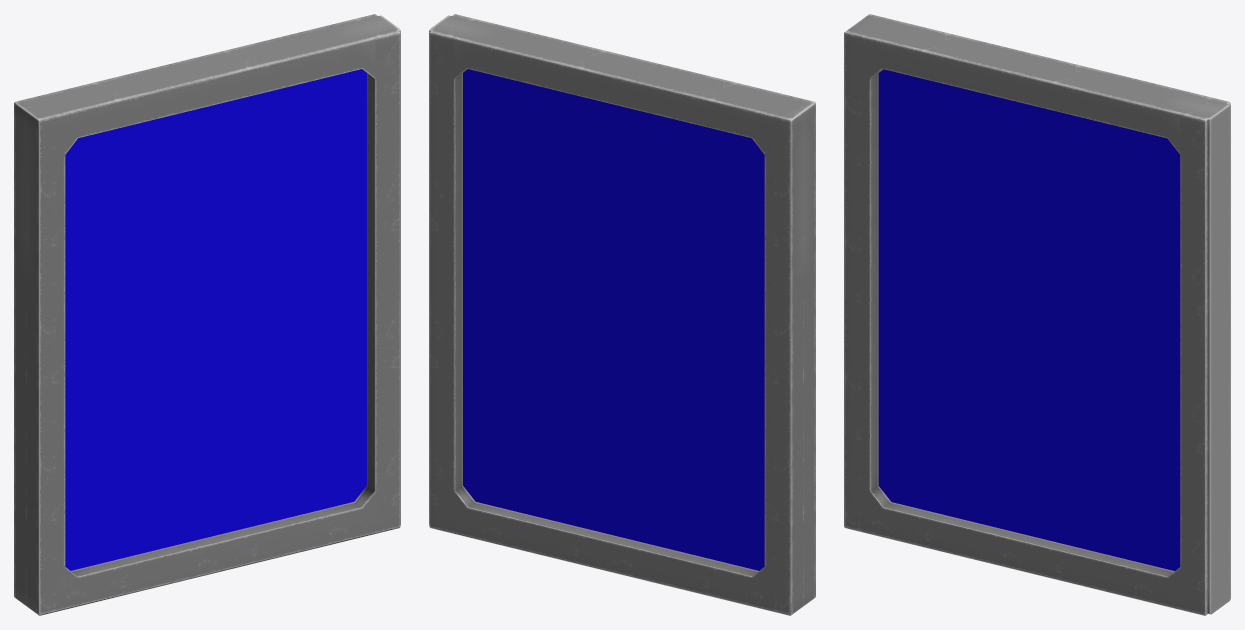
File: ConcreteBlockBuilding_DoorGlass.fbx
3 views of the same model, side by side, from view 1: azimuth 30°, elevation 25°; view 2: azimuth 150°, elevation 25°; view 3: azimuth 330°, elevation 25° (orthographic).
Parts seen in each view (by area): view 1: DoorGlass; view 2: DoorGlass; view 3: DoorGlass.
Part boxes in pixels (bbox=[...]): DoorGlass: bbox=[14, 14, 400, 615]; DoorGlass: bbox=[429, 14, 815, 615]; DoorGlass: bbox=[844, 14, 1230, 615].
Size of the model in its own units: 155 by 202 by 18.43.
Materials: 2 (1 with a texture image).
